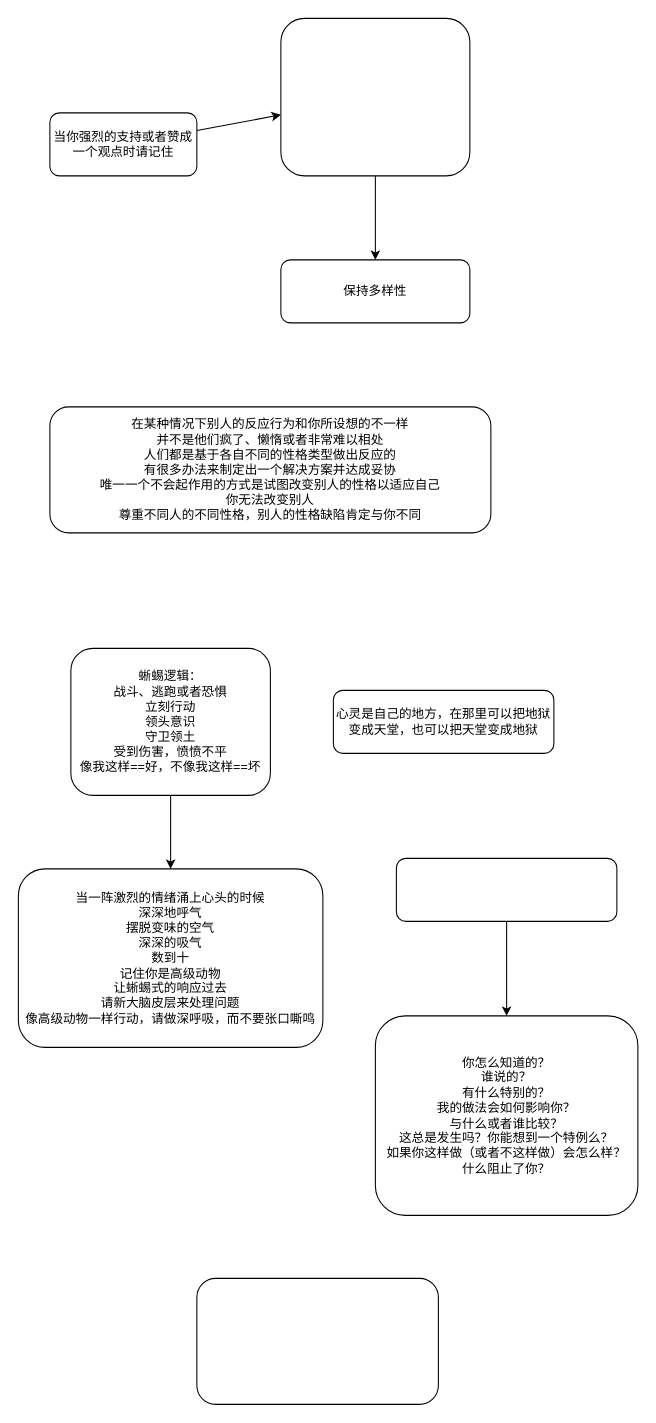
This 656x1423 diagram has some shape labels left out. The shapes that lost their labels are listed below. From the top down, each one's box as (x1, y1, x2, y2) in pixels, then its label:
(280, 17, 470, 176): 你提出的论据是逻辑性的 还是感情作怪 或者只是因为熟悉 在特定的情境中论据成立吗 你是否真的考虑过别人的看法 旁观者清，所以你需要从正反两个方面看待问题
(395, 857, 617, 921): 获得更大的视野 测试自己的心理模型 问问自己
(196, 1277, 438, 1404): 一切都是折中的结果 任何一个决定都是一种权衡 不是没有免费的午餐 凡事都有两面性 我们通过逻辑来证明，通过直觉去发现
